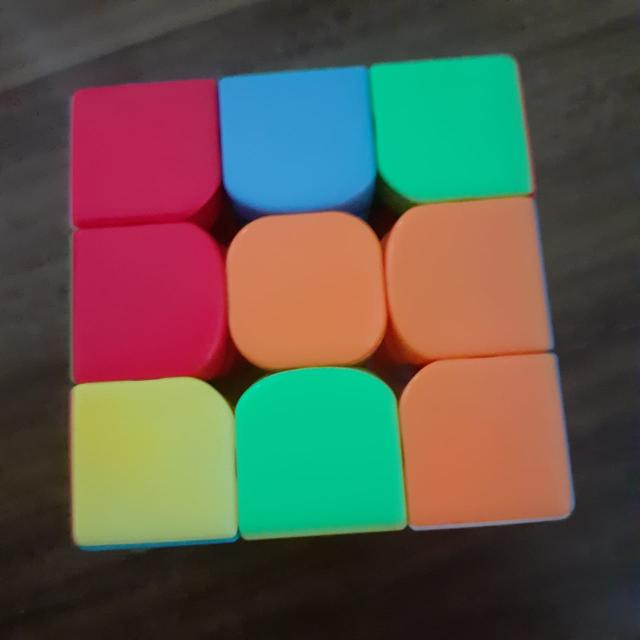Blue: (228, 80, 370, 202)
Green: (238, 376, 396, 532), (377, 66, 529, 198)
Orange: (400, 362, 568, 528), (229, 222, 383, 370), (396, 204, 544, 352)
Red: (70, 226, 218, 374), (74, 84, 220, 220)
Yellow: (70, 388, 232, 542)
